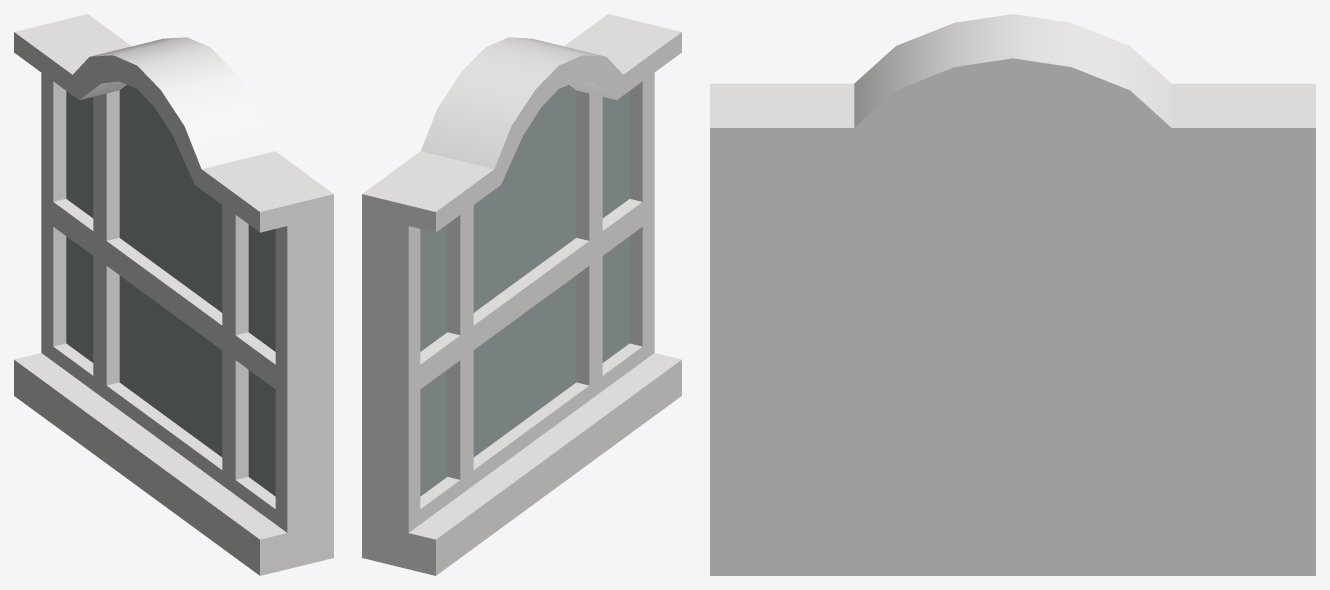
File: fbx_restaurant_ex_window1.fbx
The picture shows the model from 3 angles, left to right: view 1: azimuth 30°, elevation 25°; view 2: azimuth 150°, elevation 25°; view 3: azimuth 270°, elevation 25°; orthographic projection. The views are drawn at different scales.
Parts seen in each view (by area): view 1: fbx_restaurant_ex_window1; view 2: fbx_restaurant_ex_window1; view 3: fbx_restaurant_ex_window1.
Boxes of the visible parts, left/top/right/bottom form: fbx_restaurant_ex_window1: left=14, top=14, right=333, bottom=575; fbx_restaurant_ex_window1: left=362, top=14, right=681, bottom=575; fbx_restaurant_ex_window1: left=710, top=14, right=1315, bottom=575.
Size of the model in its own units: 0.2061 by 1.12 by 1.19.
2 materials, 1 textured.
